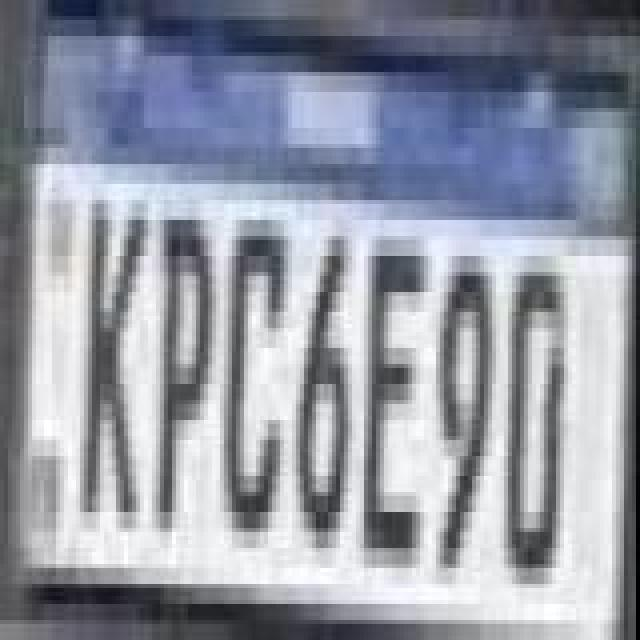6: (296, 226, 356, 558)
9: (436, 246, 496, 578)
C: (218, 202, 290, 550)
D: (500, 254, 568, 586)
E: (366, 234, 430, 566)
K: (84, 202, 152, 534)
P: (156, 210, 216, 542)
